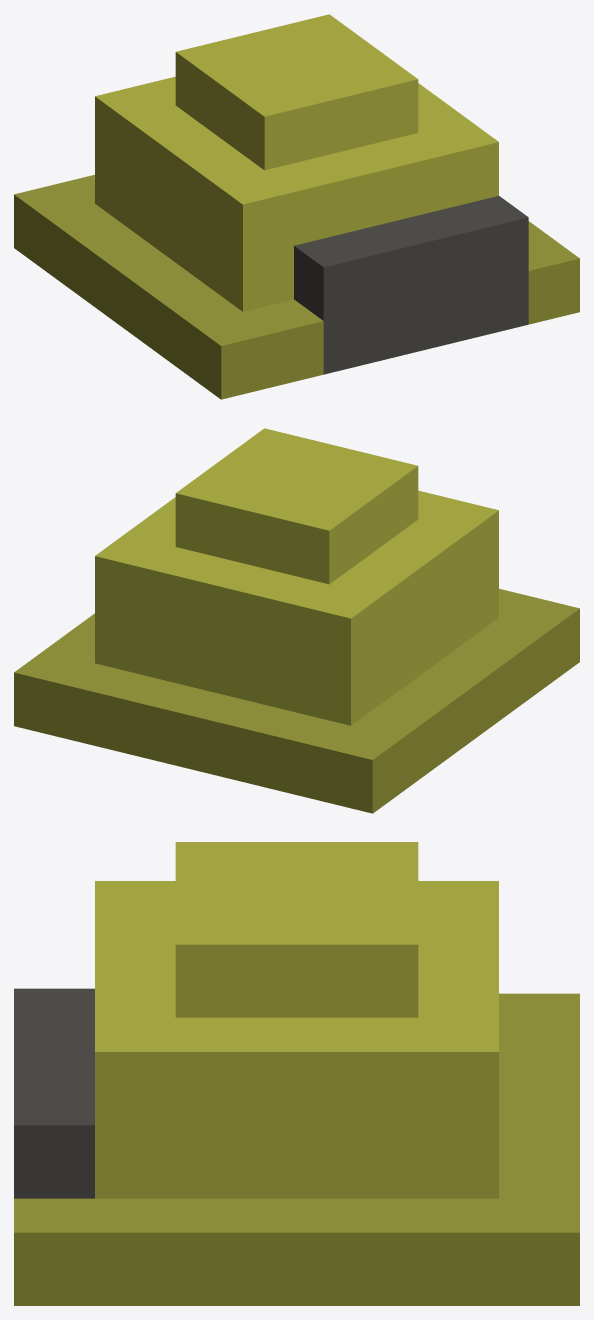
File: legendario_casco_trasgo_01.glb
3 renders of one model, top to bottom at view 1: azimuth 30°, elevation 25°; view 2: azimuth 150°, elevation 25°; view 3: azimuth 270°, elevation 25°, orthographic. The views are drawn at different scales.
Parts seen in each view (by area): view 1: legendario_casco_trasgo; view 2: legendario_casco_trasgo; view 3: legendario_casco_trasgo.
Part boxes in pixels (box(x1,y1,x2,y2)): legendario_casco_trasgo: box(14, 14, 579, 399); legendario_casco_trasgo: box(14, 428, 579, 813); legendario_casco_trasgo: box(14, 842, 579, 1305).
Bounding box in the file's own units: 0.5833 × 0.3333 × 0.5833.
